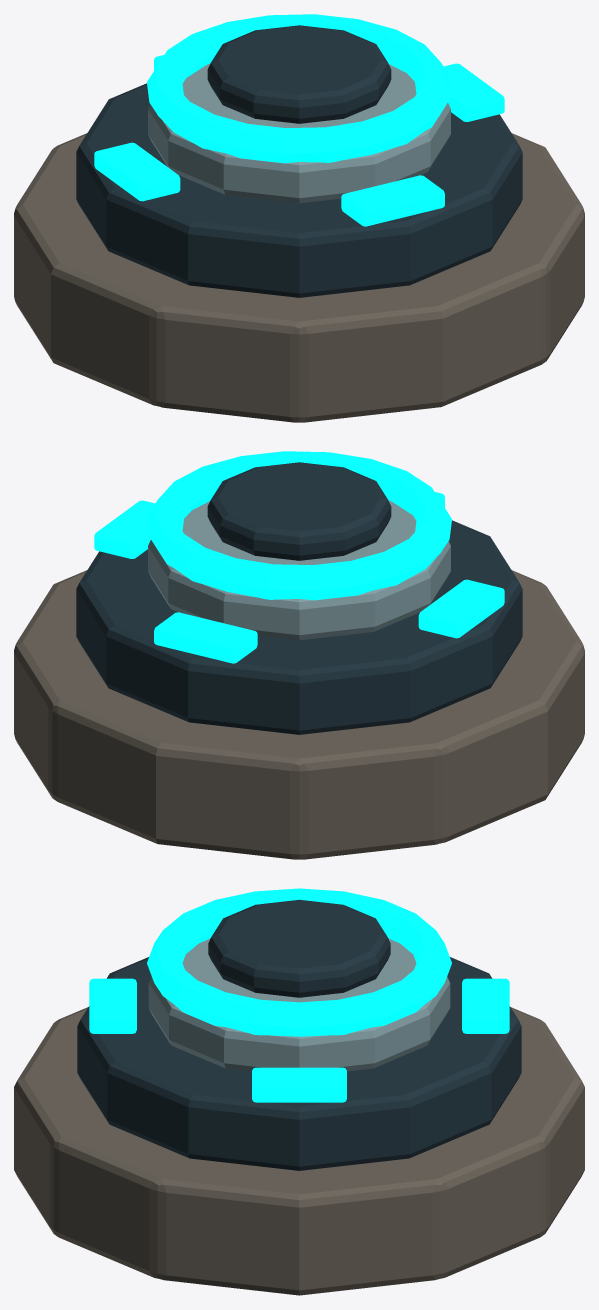
Rendered from Core-Pedestal.glb.
The picture shows the model from 3 angles, top to bottom: view 1: azimuth 30°, elevation 25°; view 2: azimuth 150°, elevation 25°; view 3: azimuth 270°, elevation 25°; orthographic projection.
Visible parts, largest first — view 1: Pedestal_StoneBase, Pedestal_MetalBase, Pedestal_GlowRing, Pedestal_Socket, Pedestal_CoreSocket, Pedestal_Rune_3, Pedestal_Rune_2, Pedestal_Rune_0; view 2: Pedestal_StoneBase, Pedestal_MetalBase, Pedestal_GlowRing, Pedestal_Socket, Pedestal_CoreSocket, Pedestal_Rune_1, Pedestal_Rune_2, Pedestal_Rune_0; view 3: Pedestal_StoneBase, Pedestal_MetalBase, Pedestal_GlowRing, Pedestal_Socket, Pedestal_CoreSocket, Pedestal_Rune_0, Pedestal_Rune_1, Pedestal_Rune_3.
Boxes of the visible parts, bbox=[...] form: Pedestal_StoneBase: bbox=[14, 133, 584, 422]; Pedestal_MetalBase: bbox=[76, 83, 522, 297]; Pedestal_GlowRing: bbox=[147, 14, 451, 163]; Pedestal_Socket: bbox=[148, 63, 450, 203]; Pedestal_CoreSocket: bbox=[207, 25, 391, 123]; Pedestal_Rune_3: bbox=[341, 175, 444, 226]; Pedestal_Rune_2: bbox=[94, 142, 180, 201]; Pedestal_Rune_0: bbox=[444, 63, 504, 121]; Pedestal_StoneBase: bbox=[14, 570, 584, 859]; Pedestal_MetalBase: bbox=[76, 520, 522, 734]; Pedestal_GlowRing: bbox=[147, 451, 451, 600]; Pedestal_Socket: bbox=[148, 500, 450, 640]; Pedestal_CoreSocket: bbox=[207, 462, 391, 560]; Pedestal_Rune_1: bbox=[154, 612, 257, 663]; Pedestal_Rune_2: bbox=[418, 579, 504, 638]; Pedestal_Rune_0: bbox=[94, 500, 154, 558]; Pedestal_StoneBase: bbox=[14, 1007, 584, 1295]; Pedestal_MetalBase: bbox=[77, 957, 521, 1170]; Pedestal_GlowRing: bbox=[147, 888, 451, 1036]; Pedestal_Socket: bbox=[148, 938, 450, 1071]; Pedestal_CoreSocket: bbox=[208, 899, 390, 997]; Pedestal_Rune_0: bbox=[252, 1067, 346, 1102]; Pedestal_Rune_1: bbox=[462, 978, 509, 1033]; Pedestal_Rune_3: bbox=[89, 978, 136, 1033].
Size of the model in its own units: 1.44 by 0.68 by 1.44.
